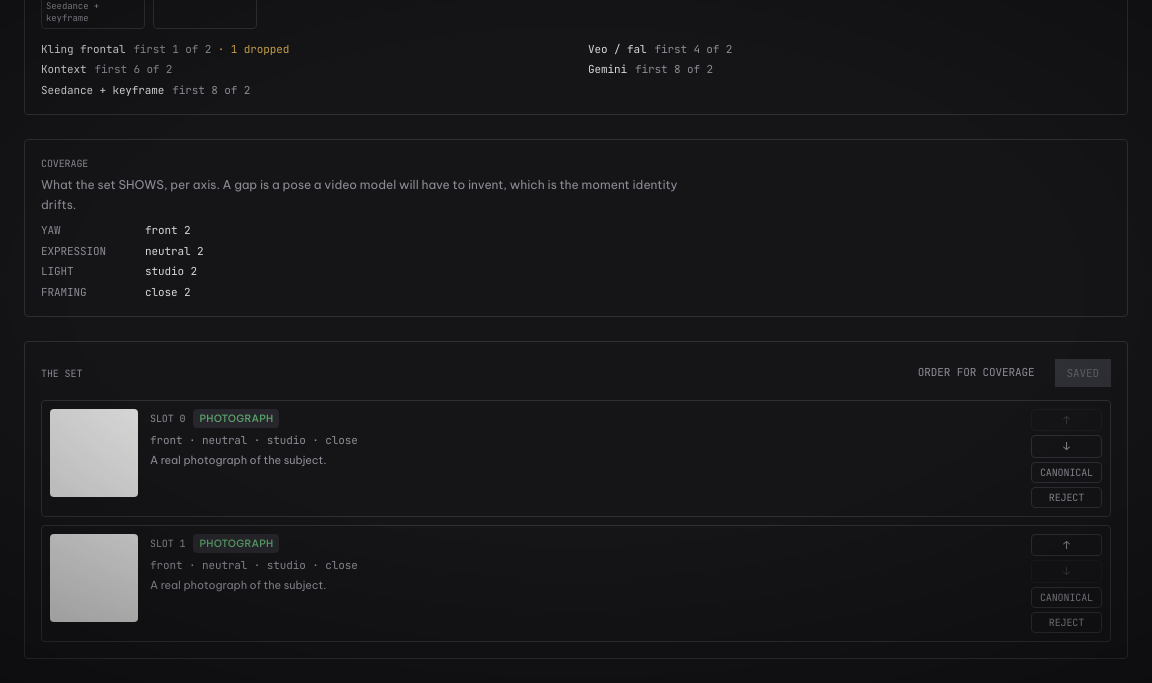
ReferenceSheetPage › holds a reorder as a draft until it is saved
(page scrolled)
Click the button named "Move slot 1 earlier" at (1066, 545), box [1031,534,1102,556]
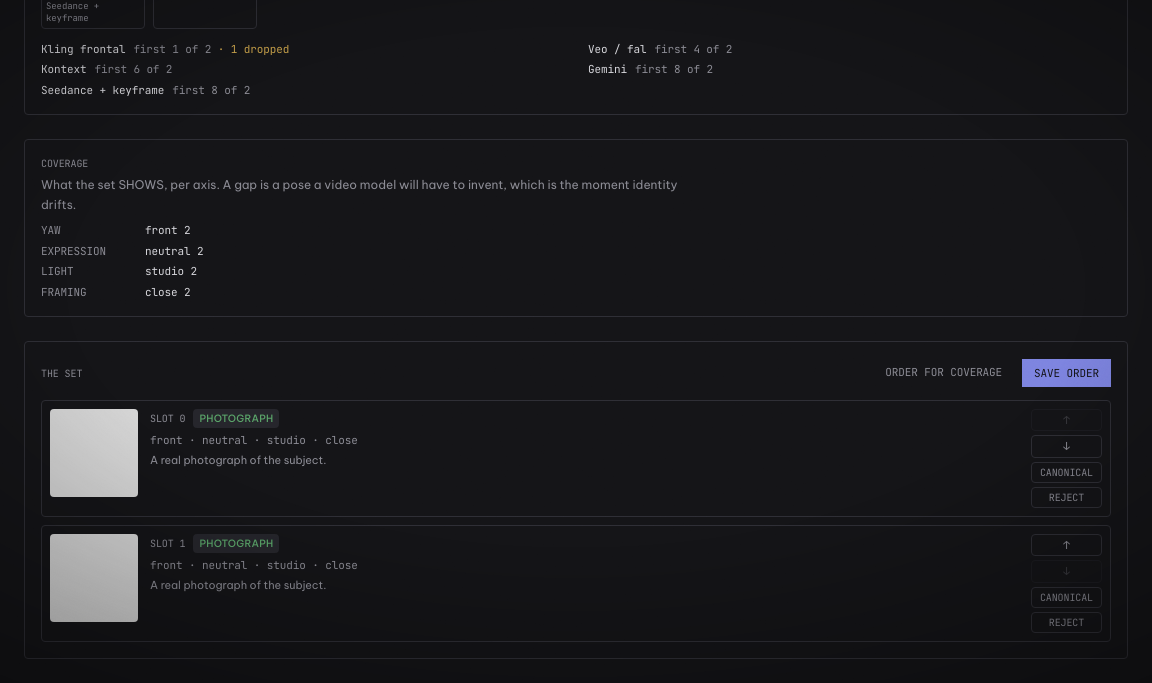
Now the button "Save order" is shown, box [1022,359,1111,387]
